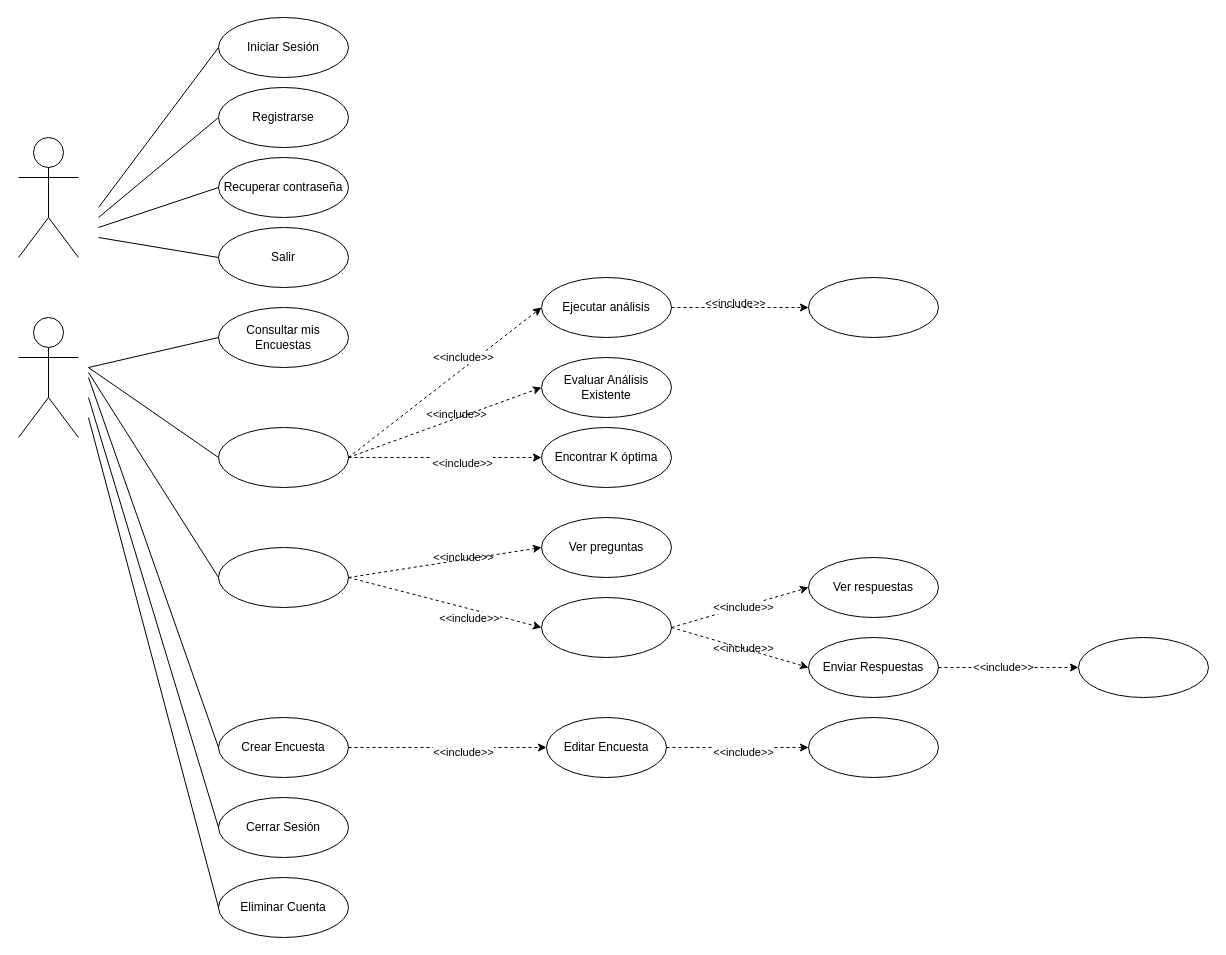
Some shapes in this 1226 by 955 pixel diagram are drawn without their labels. The box of each missing label's shape, as (x1, y1, x2, y2) in pixels:
Analizar encuestas: (218, 426, 348, 488)
Exportar Encuesta: (808, 716, 938, 778)
Responder Encuesta: (218, 546, 348, 608)
Responder Pregunta: (540, 596, 672, 658)
Usuario autenticado: (18, 316, 78, 438)
Usuario sin autenticar: (18, 136, 78, 258)
Valorar Encuesta: (1078, 636, 1208, 698)
Visualizar Resultados Análisis: (808, 276, 938, 338)
